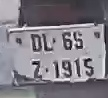1: (75, 57, 84, 79), (51, 60, 60, 77)
5: (82, 56, 96, 78)
6: (61, 30, 73, 52)
9: (60, 57, 74, 80)
D: (29, 31, 43, 56)
L: (40, 32, 55, 54)
S: (72, 31, 85, 50)
Z: (30, 59, 44, 80)
